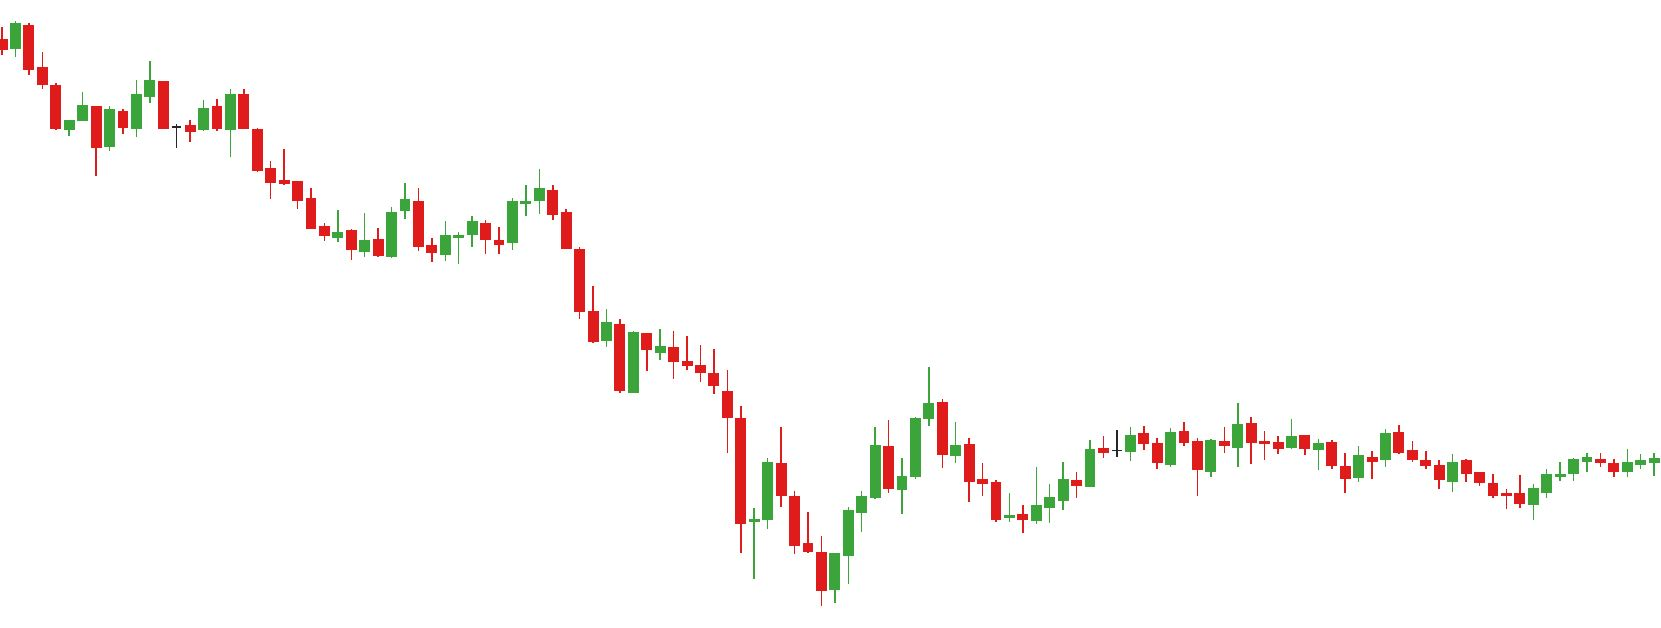buy: (733, 481, 841, 612)
sell: (399, 166, 561, 240)
